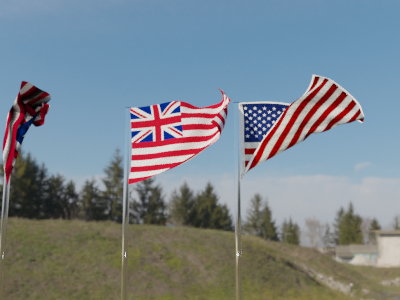America flag: (240, 71, 365, 177)
Liberia flag: (2, 79, 54, 179)
Malaysia flag: (129, 85, 232, 184)
